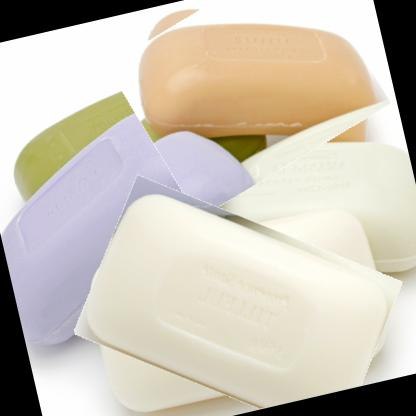soap: (60, 156, 413, 415), (106, 0, 394, 216)
